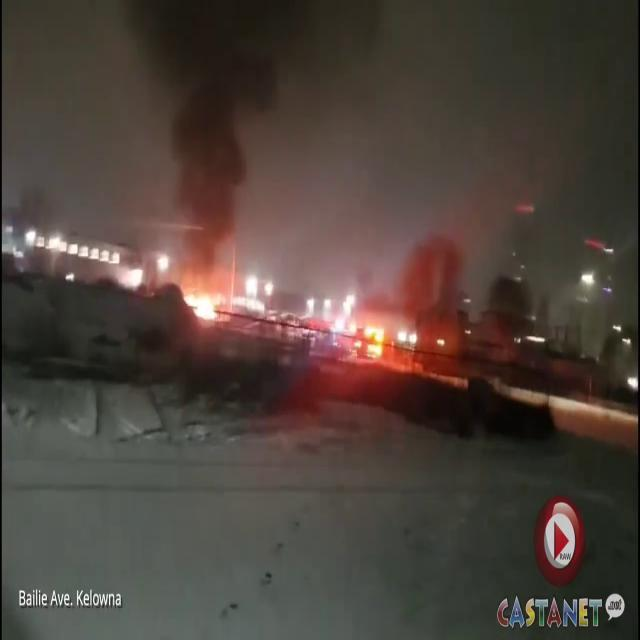Fire: (180, 276, 230, 328)
Smoke: (109, 0, 334, 273)
